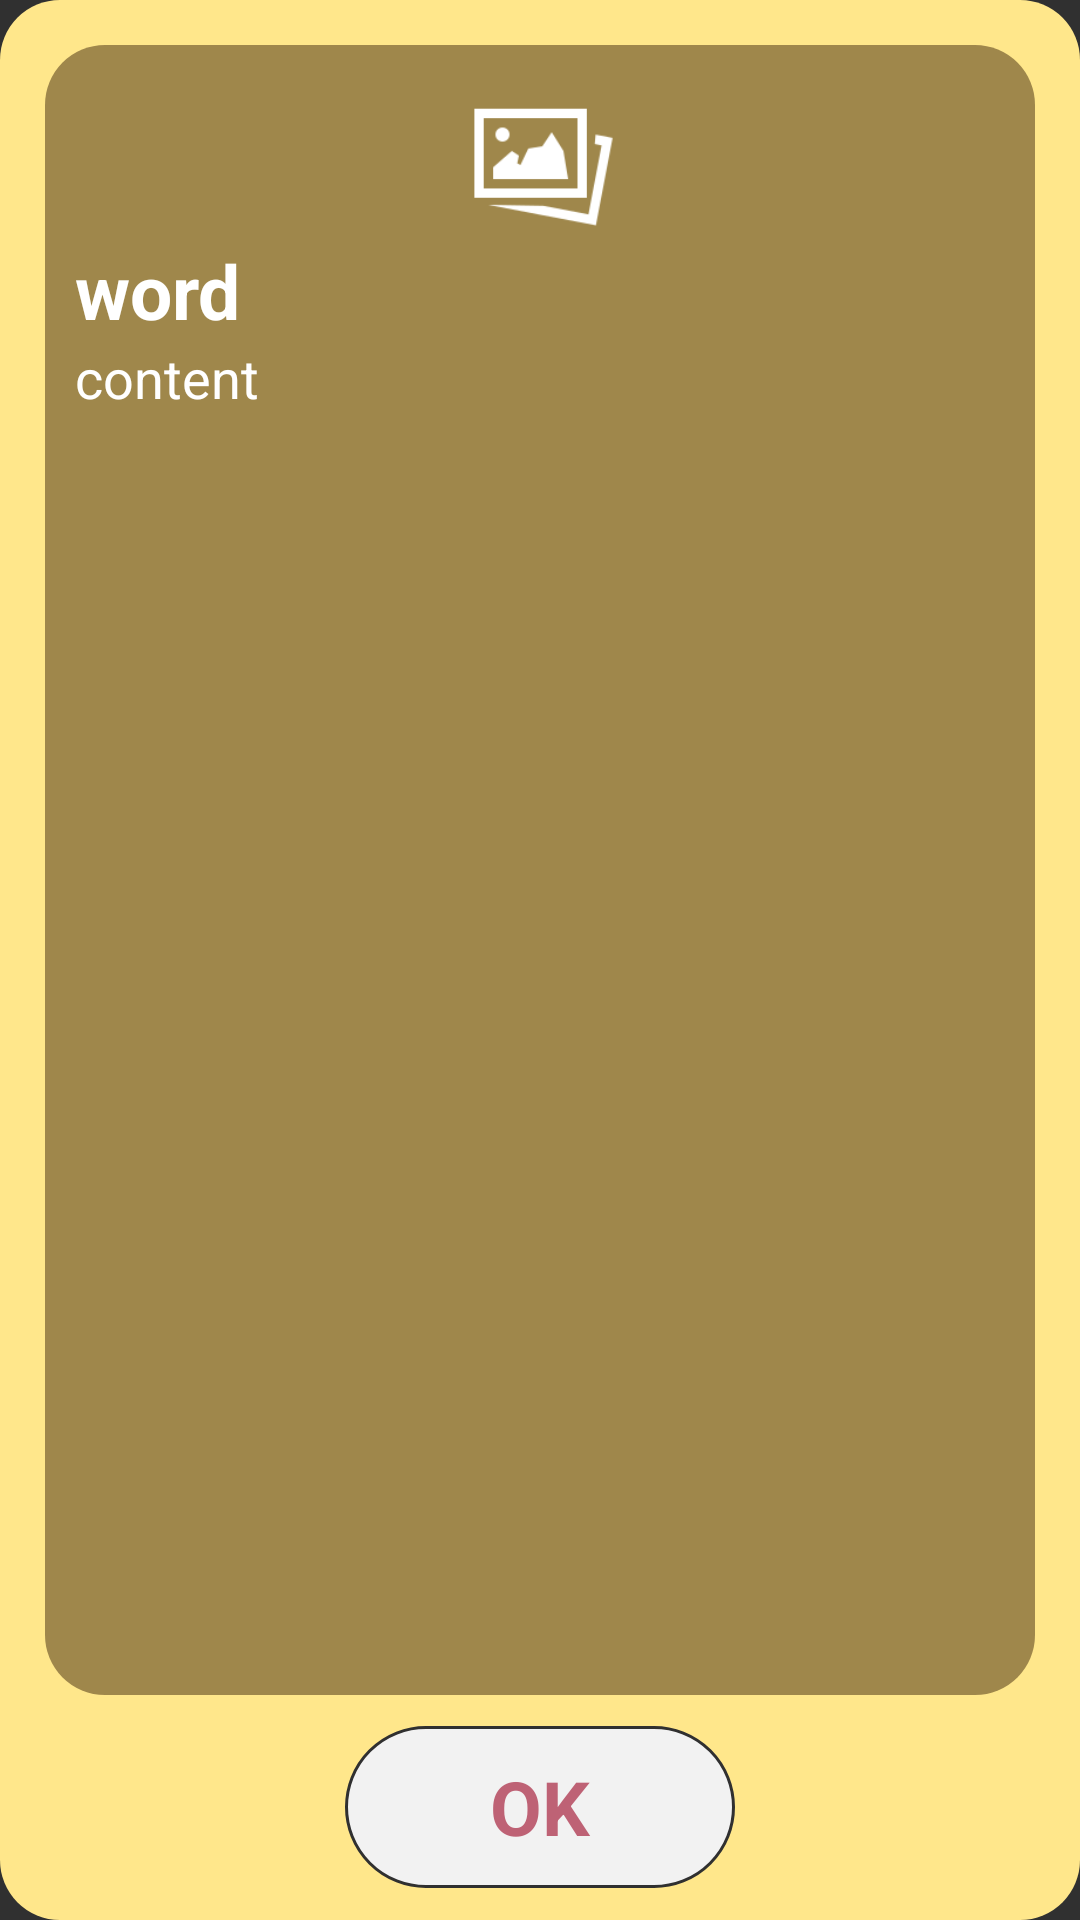

Point at icon controls on the screen. Image size 1080px×1920px, points as (x,y).
gallery: (543,167)
